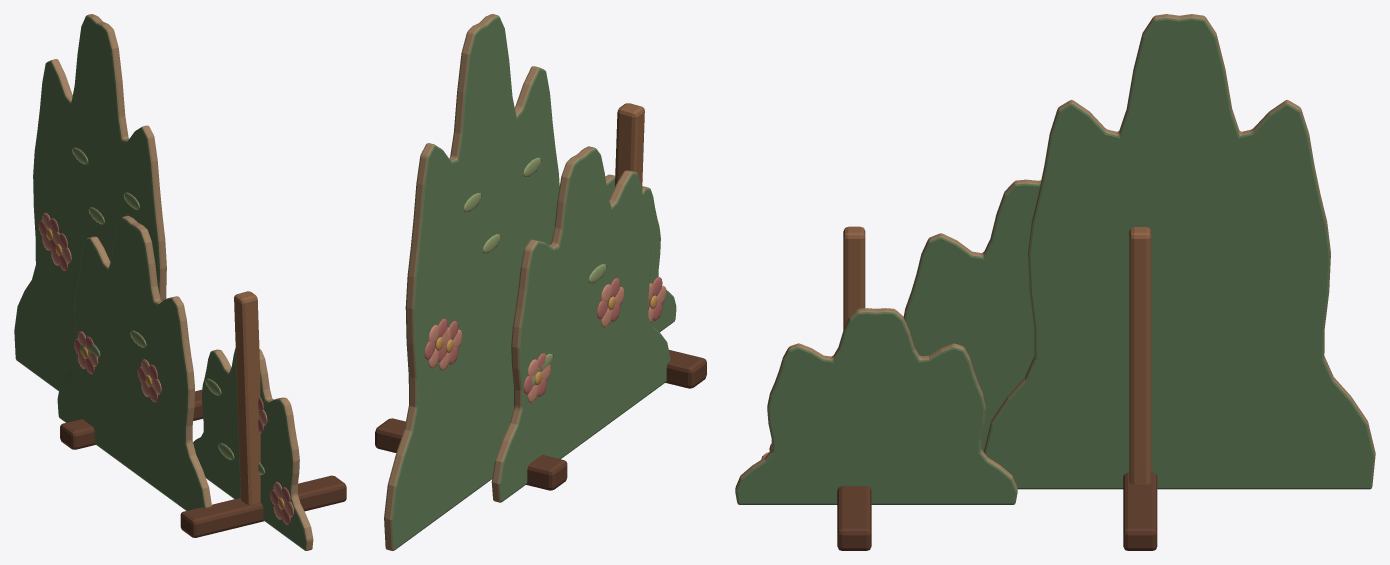
Rendered from SM_Menu_GardenScenery.fbx.
3 renders of one model, left to right at view 1: azimuth 30°, elevation 25°; view 2: azimuth 150°, elevation 25°; view 3: azimuth 270°, elevation 25°, orthographic. The views are drawn at different scales.
Visible parts, largest first — view 1: SM_Menu_GardenScenery; view 2: SM_Menu_GardenScenery; view 3: SM_Menu_GardenScenery.
Boxes of the visible parts, x1=… form: SM_Menu_GardenScenery: x1=14, y1=14, x2=346, y2=550; SM_Menu_GardenScenery: x1=375, y1=14, x2=706, y2=550; SM_Menu_GardenScenery: x1=735, y1=14, x2=1375, y2=550.
Bounding box in the file's own units: 87 × 262 × 215.
